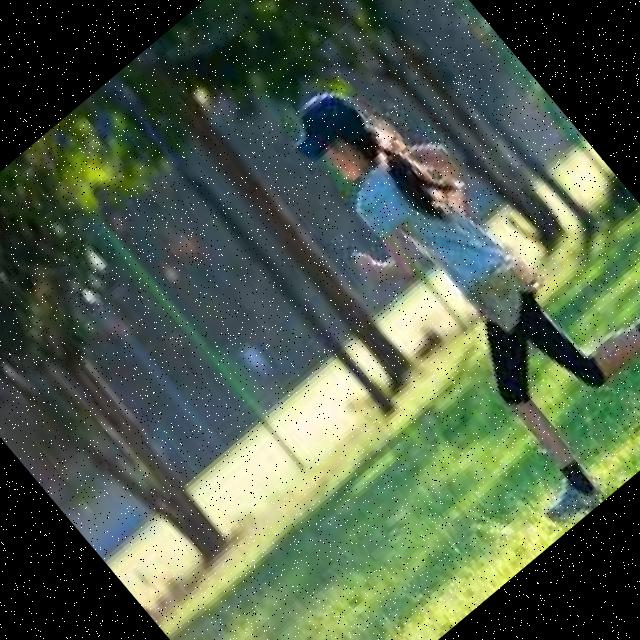Person: (245, 5, 640, 531)
